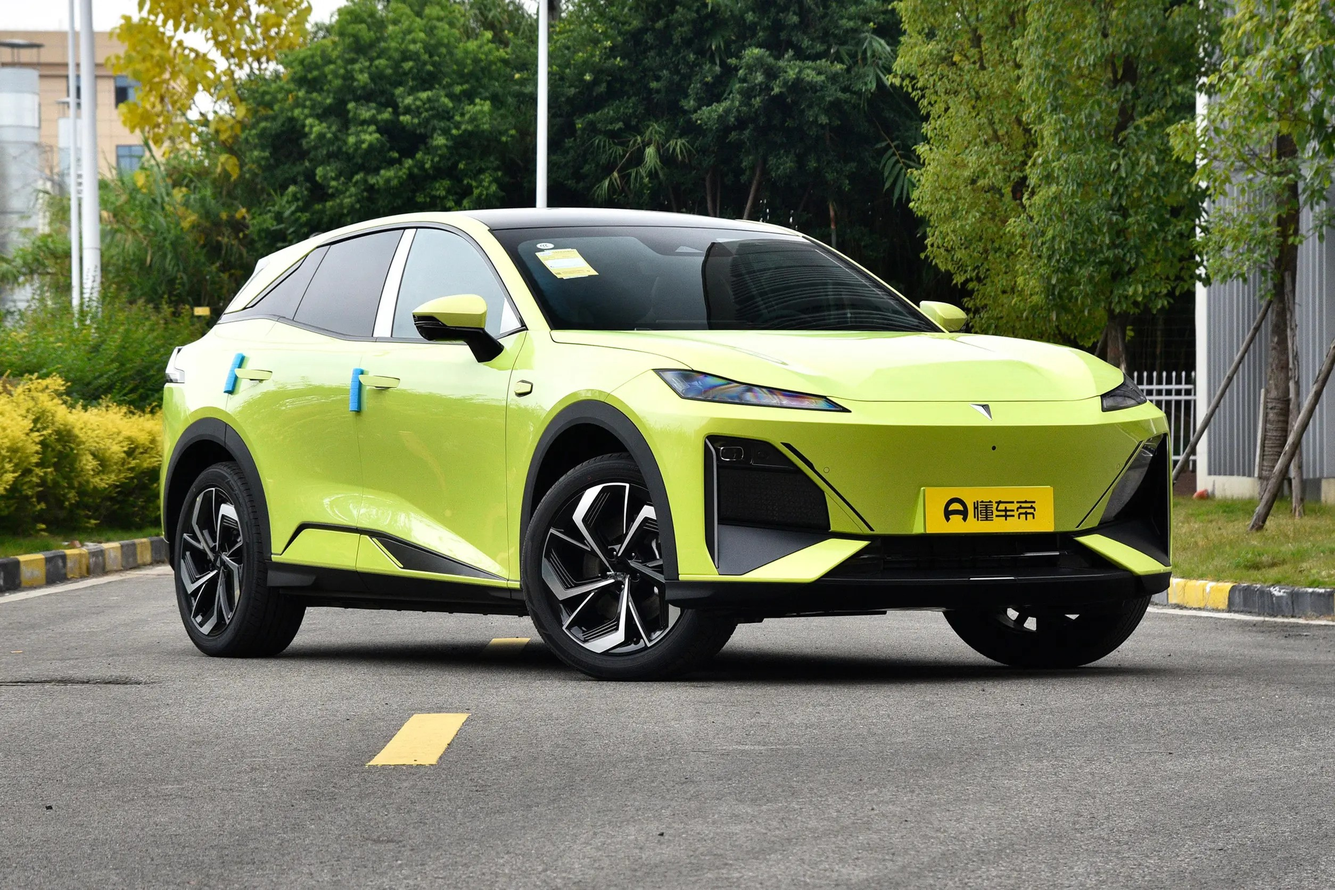Deepal: (969, 403, 992, 420)
